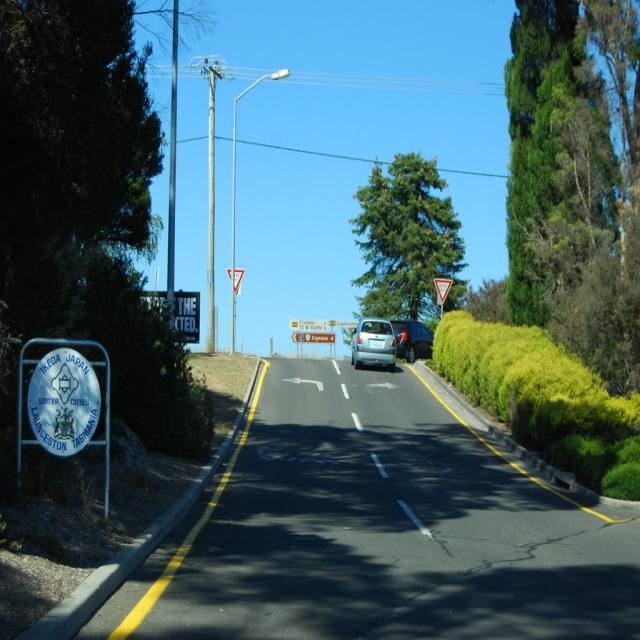car: (351, 318, 393, 364)
